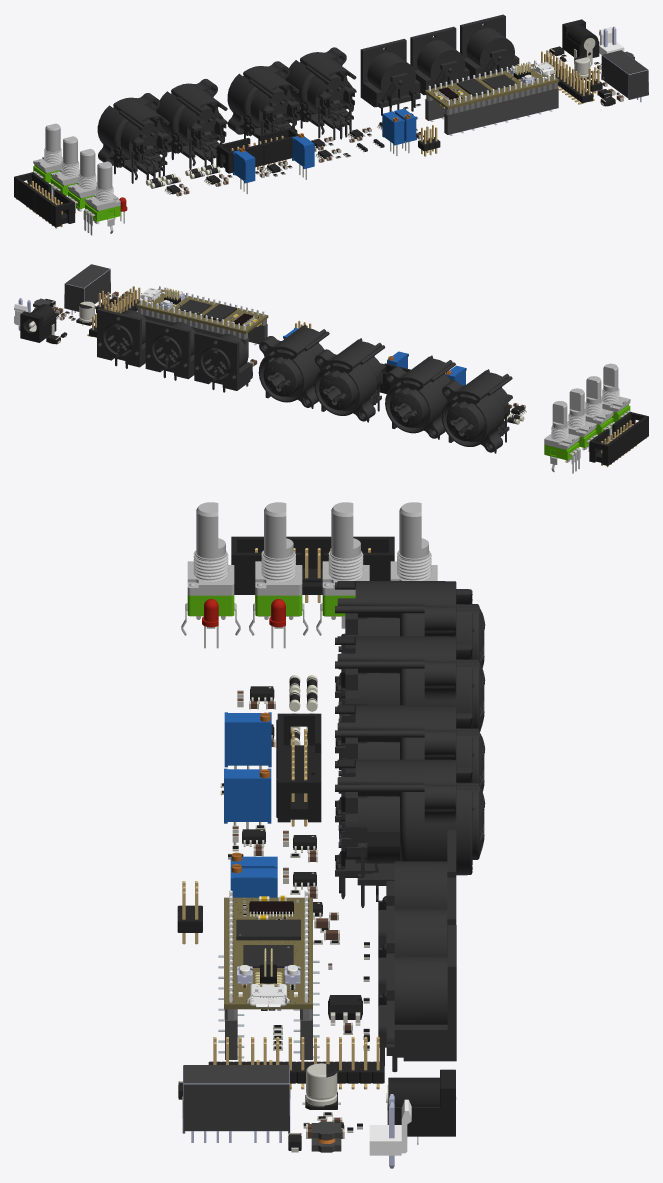
The model's file is _components.glb.
3 renders of one model, top to bottom at view 1: azimuth 30°, elevation 25°; view 2: azimuth 150°, elevation 25°; view 3: azimuth 270°, elevation 25°, orthographic. The views are drawn at different scales.
Parts seen in each view (by area): view 1: SDS-50J (Compound) (×3), J1, J6, J2, J4, =>[0:1:1:2] (×2), J5, J3, PS1, RV6, Board:1, J11 (+13 smaller); view 2: SDS-50J (Compound) (×3), J4, J1, J2, J6, J5, RV1, PS1, Board:1, J13, RV3, RV5 (+6 smaller); view 3: SDS-50J (Compound) (×3), J6, J2, J1, J4, PS1, J3, J5, Board:1, RV6, RV5, J13 (+13 smaller).
Part boxes in pixels (x1,y1,x2,y2): SDS-50J (Compound) (×3): (360,14,519,115); J1: (97,93,170,183); J6: (285,47,356,139); J2: (155,79,227,169); J4: (227,61,299,138); =>[0:1:1:2] (×2): (425,88,558,134); J5: (14,172,74,228); J3: (217,128,298,175); PS1: (601,50,648,102); RV6: (83,161,120,235); Board:1: (425,63,559,109); J11: (541,50,594,104); SDS-50J (Compound) (×3): (97,308,252,392); J4: (314,338,385,422); J1: (441,369,512,453); J2: (385,355,455,439); J6: (258,324,329,408); J5: (589,411,648,467); RV1: (544,401,580,473); PS1: (64,264,110,315); Board:1: (136,288,268,333); J13: (20,304,56,342); RV3: (567,388,596,459); RV5: (584,376,613,447); SDS-50J (Compound) (×3): (378,830,456,1072); J6: (335,759,485,907); J2: (335,636,485,769); J1: (335,581,485,714); J4: (335,705,485,838); PS1: (182,1065,290,1142); J3: (276,713,321,826); J5: (231,536,394,602); Board:1: (224,897,312,1009); RV6: (181,502,240,635); RV5: (249,502,308,635); J13: (386,1069,456,1144).
Bounding box in the file's own units: 0.2769 × 0.031 × 0.0622.
